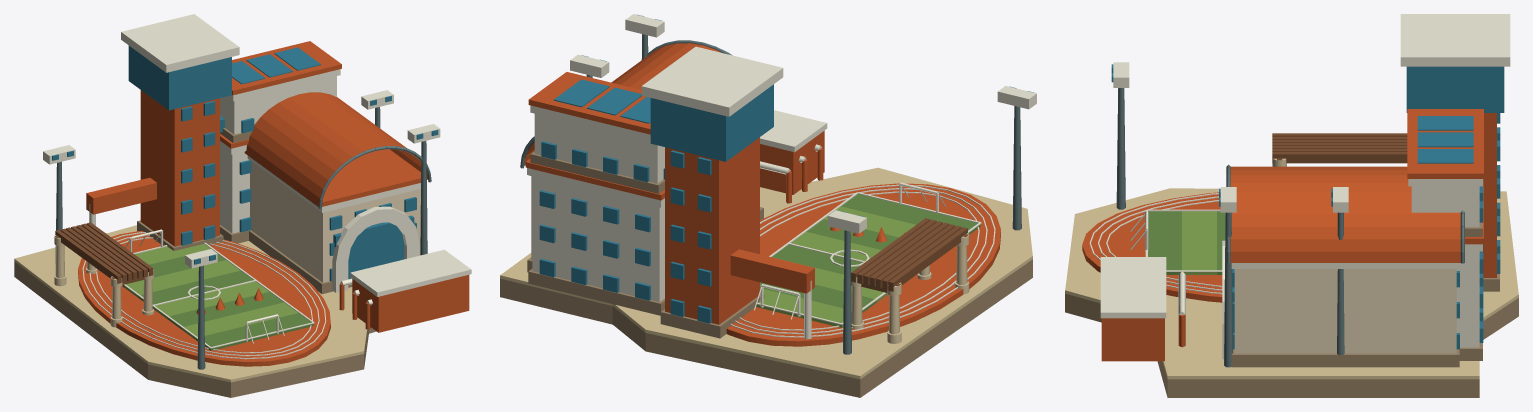
The model's file is training-center-lv5.glb.
3 views of the same model, side by side, from view 1: azimuth 30°, elevation 25°; view 2: azimuth 150°, elevation 25°; view 3: azimuth 270°, elevation 25° (orthographic). The views are drawn at different scales.
Visible parts, largest first — view 1: running_track_orange, gym_barrel_roof_orange, coaching_tower_orange, foundation_sand, training_hall_cream, foundation_stoneDark, pitch_grassLight, pitch_grass, observation_canopy_white, equipment_platform_orange, observation_box_glass, training_hall_roof_orange (+23 smaller); view 2: foundation_sand, coaching_tower_orange, running_track_orange, performance_block_white, foundation_stoneDark, observation_canopy_white, observation_box_glass, performance_upper_floor_white, pitch_grass, coaching_shelter_wood, pitch_grassLight, performance_block_windows_glass (+19 smaller); view 3: gym_barrel_roof_orange, training_hall_cream, foundation_sand, foundation_stoneDark, observation_canopy_white, observation_box_glass, running_track_orange, coaching_shelter_wood, equipment_platform_white, training_hall_stoneDark, performance_upper_floor_roof_orange, lighting_iron (+13 smaller).
Boxes of the visible parts, bbox=[...] form: running_track_orange: bbox=[78, 231, 330, 366]; gym_barrel_roof_orange: bbox=[244, 92, 428, 206]; coaching_tower_orange: bbox=[140, 90, 219, 246]; foundation_sand: bbox=[14, 225, 367, 382]; training_hall_cream: bbox=[250, 161, 420, 282]; foundation_stoneDark: bbox=[14, 261, 376, 397]; pitch_grassLight: bbox=[124, 244, 298, 339]; pitch_grass: bbox=[122, 254, 313, 350]; observation_canopy_white: bbox=[121, 14, 239, 72]; equipment_platform_orange: bbox=[352, 275, 469, 332]; observation_box_glass: bbox=[128, 45, 231, 110]; training_hall_roof_orange: bbox=[322, 149, 420, 206]; foundation_sand: bbox=[500, 167, 1032, 379]; coaching_tower_orange: bbox=[665, 137, 759, 324]; running_track_orange: bbox=[726, 183, 1000, 346]; performance_block_white: bbox=[528, 168, 664, 301]; foundation_stoneDark: bbox=[500, 259, 1032, 397]; observation_canopy_white: bbox=[641, 46, 783, 116]; observation_box_glass: bbox=[650, 84, 773, 161]; performance_upper_floor_white: bbox=[530, 105, 664, 183]; pitch_grass: bbox=[760, 194, 980, 312]; coaching_shelter_wood: bbox=[851, 218, 968, 292]; pitch_grassLight: bbox=[756, 206, 915, 327]; performance_block_windows_glass: bbox=[539, 190, 650, 300]; gym_barrel_roof_orange: bbox=[1230, 166, 1460, 262]; training_hall_cream: bbox=[1234, 269, 1456, 353]; foundation_sand: bbox=[1065, 188, 1518, 379]; foundation_stoneDark: bbox=[1065, 293, 1518, 397]; observation_canopy_white: bbox=[1400, 14, 1510, 66]; observation_box_glass: bbox=[1406, 66, 1504, 112]; running_track_orange: bbox=[1082, 192, 1222, 302]; coaching_shelter_wood: bbox=[1272, 133, 1407, 163]; equipment_platform_white: bbox=[1100, 257, 1166, 318]; training_hall_stoneDark: bbox=[1231, 349, 1459, 367]; performance_upper_floor_roof_orange: bbox=[1407, 109, 1483, 178]; lighting_iron: bbox=[1116, 88, 1344, 367].
Bounding box in the file's own units: 0.9785 × 0.6406 × 1.
